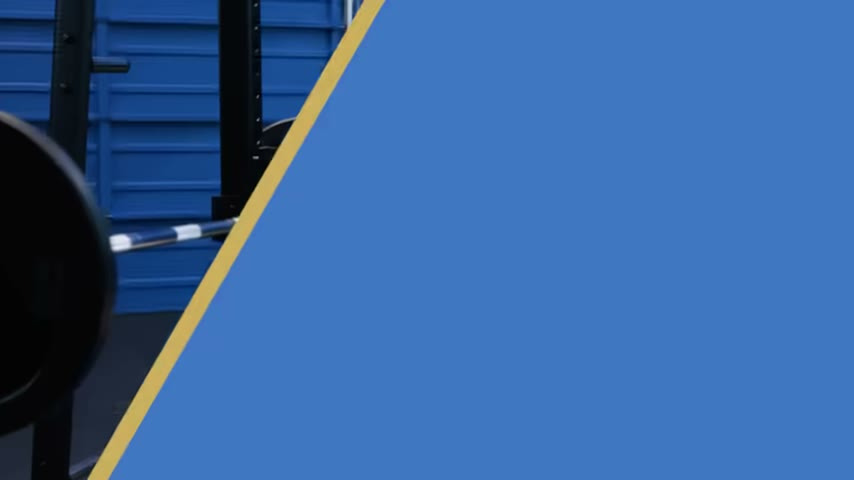barbell_plate_side: (84, 141, 240, 473)
